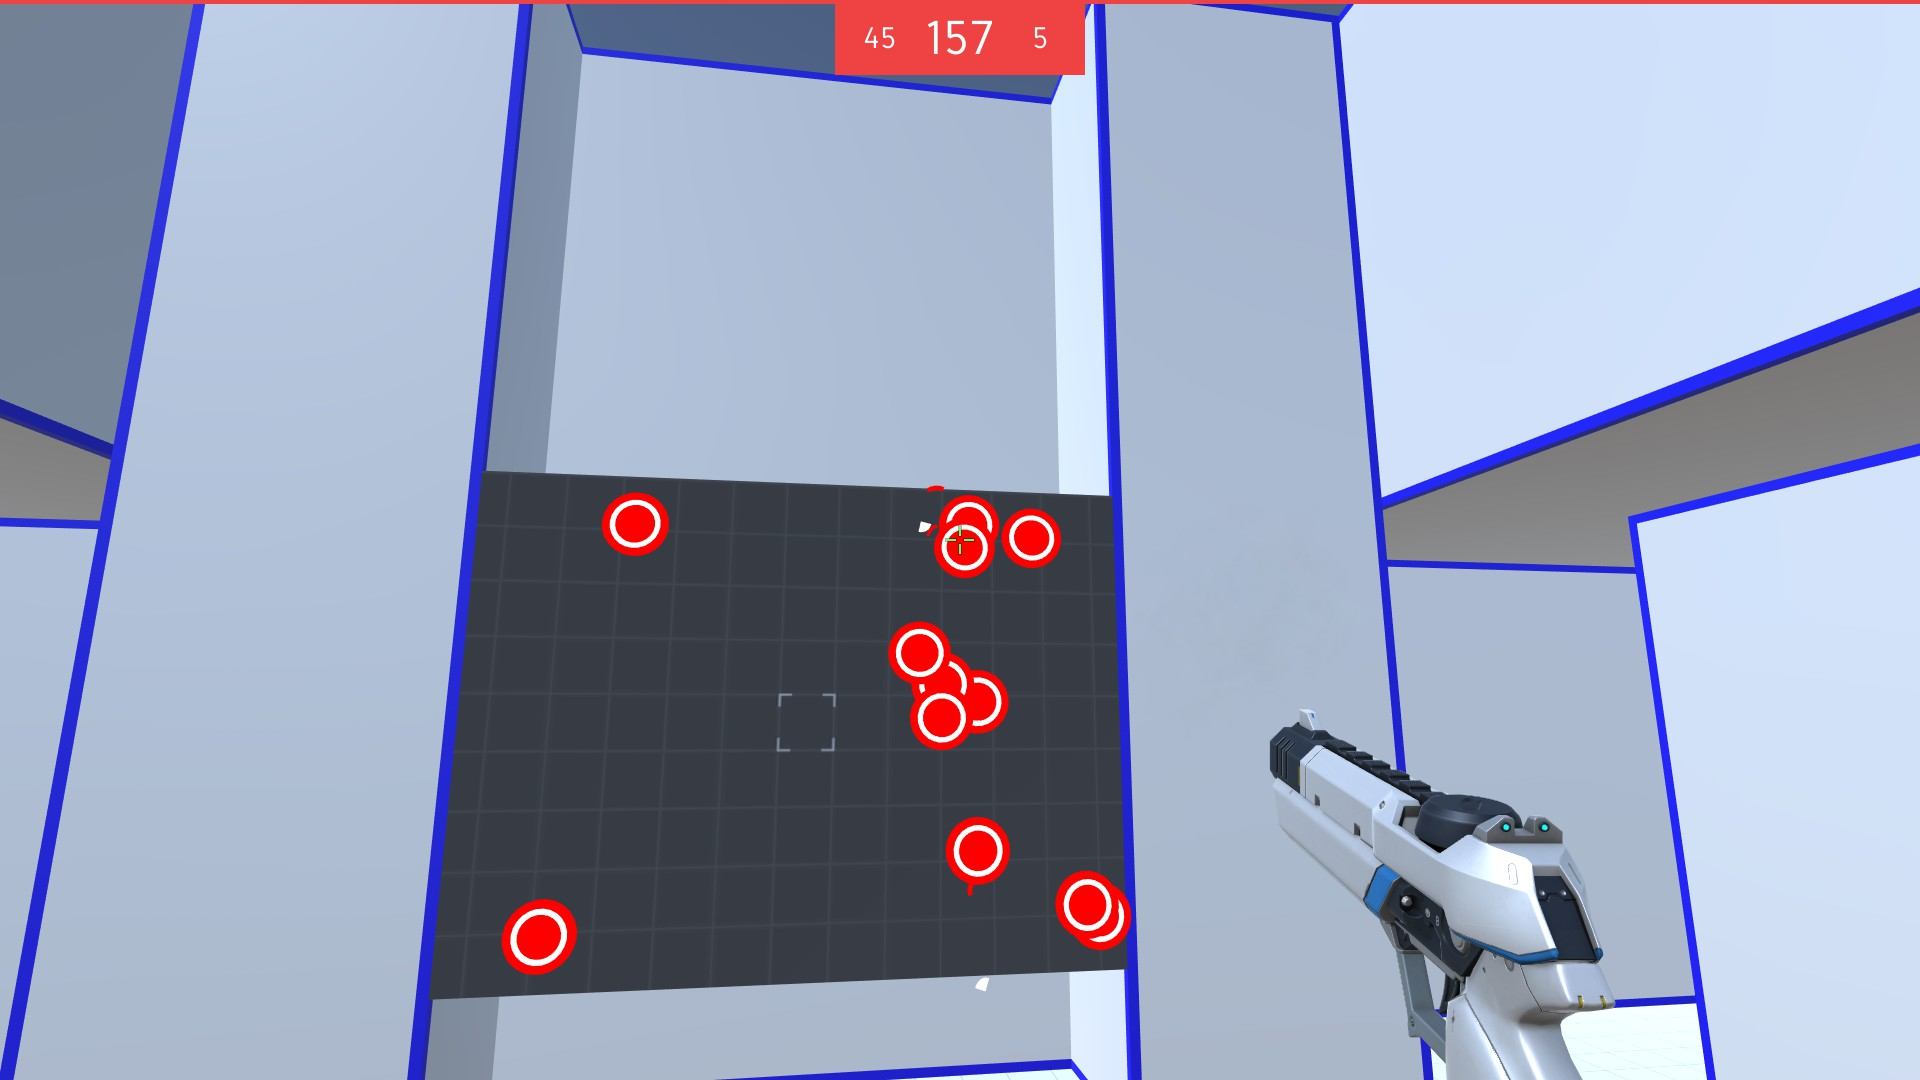target: (502, 897, 579, 973), (597, 488, 670, 560), (943, 818, 1017, 887), (1054, 868, 1116, 938), (887, 618, 952, 684), (1002, 506, 1065, 568), (934, 520, 996, 580), (910, 690, 967, 752), (957, 669, 1010, 733), (938, 492, 996, 547), (1079, 894, 1133, 947)
